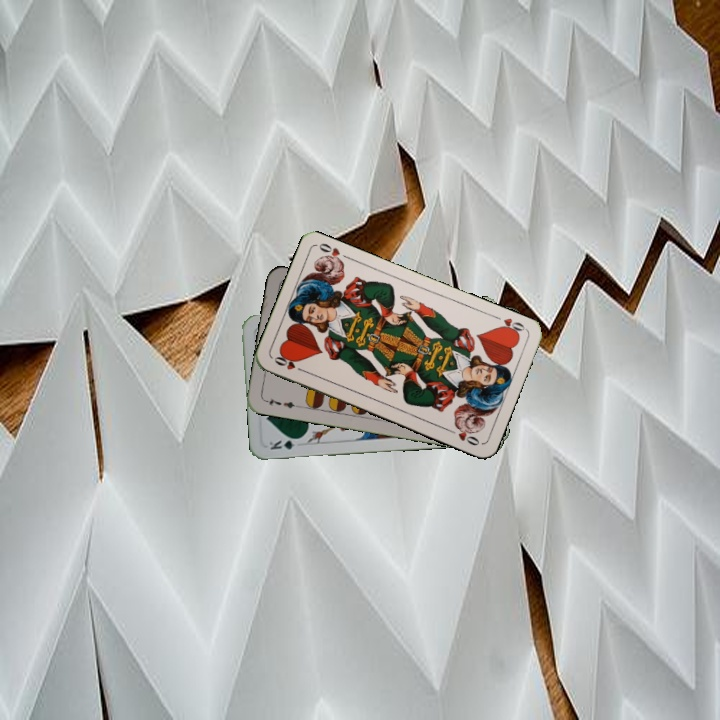E7: (261, 393, 301, 411)
GK: (265, 434, 304, 452)
HO: (270, 351, 308, 375), (494, 314, 528, 338)
